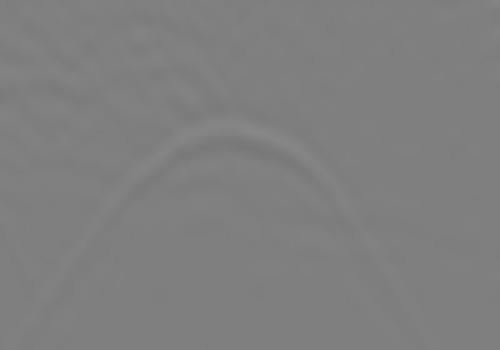hyperbola: (42, 114, 424, 323)
